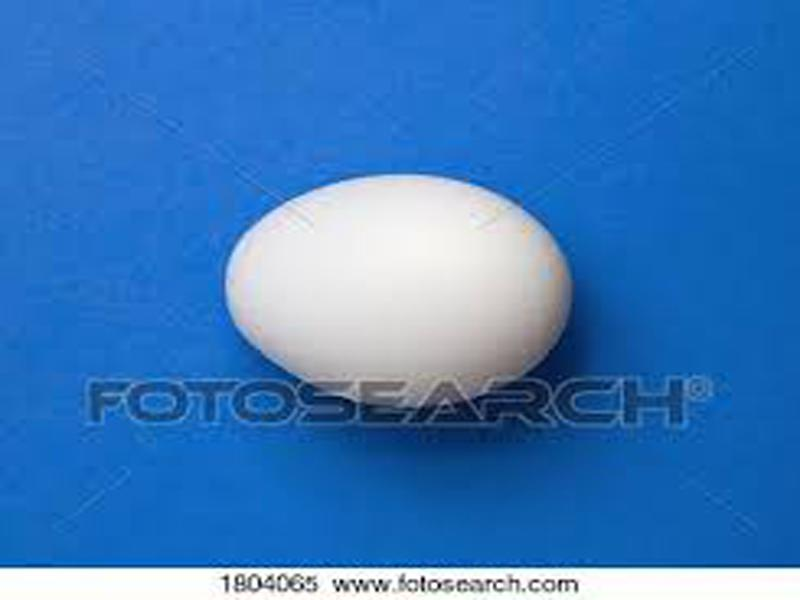Eggs: (225, 175, 571, 414)
